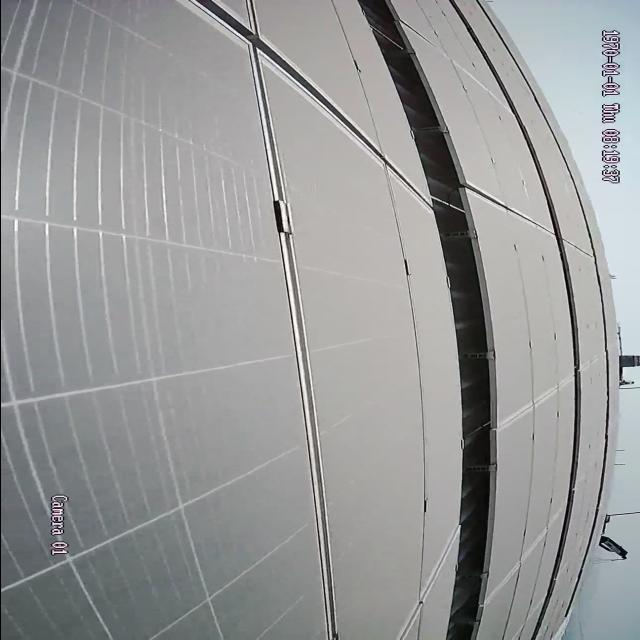interior panel: (181, 1, 418, 635), (489, 520, 556, 606), (398, 534, 452, 635), (500, 378, 569, 427), (475, 188, 542, 231)
outher panel: (354, 1, 496, 638)
